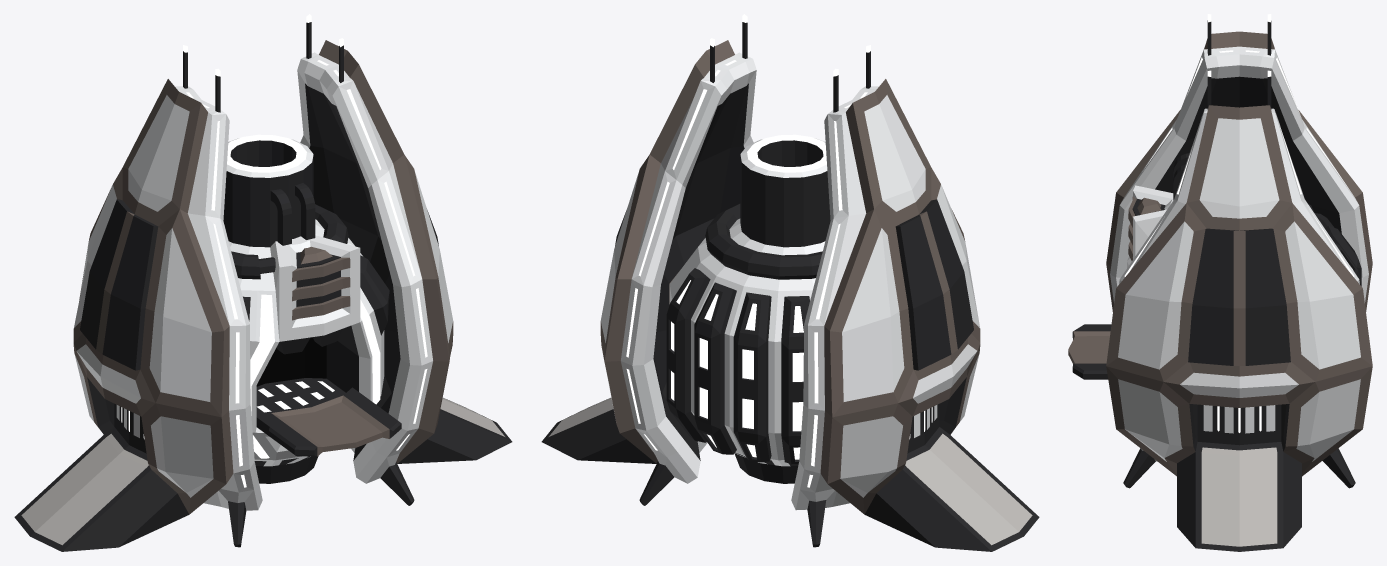
File: garbage-recycler.glb
3 views of the same model, side by side, from view 1: azimuth 30°, elevation 25°; view 2: azimuth 150°, elevation 25°; view 3: azimuth 270°, elevation 25° (orthographic). The views are drawn at different scales.
Parts seen in each view (by area): view 1: GarbageRecycler_Wing, GarbageRecycler_Body, GarbageRecycler_Part, GarbageRecycler_Parts, GarbageRecycler_Doors; view 2: GarbageRecycler_Wing, GarbageRecycler_Body, GarbageRecycler_Parts, GarbageRecycler_Doors; view 3: GarbageRecycler_Wing, GarbageRecycler_Doors, GarbageRecycler_Body, GarbageRecycler_Part, GarbageRecycler_Parts.
Part boxes in pixels (x1,y1,x2,y2): GarbageRecycler_Wing: (14,14,512,551); GarbageRecycler_Body: (223,134,389,466); GarbageRecycler_Part: (256,387,401,456); GarbageRecycler_Parts: (255,183,350,483); GarbageRecycler_Doors: (114,329,384,453); GarbageRecycler_Wing: (541,14,1039,551); GarbageRecycler_Body: (666,134,830,466); GarbageRecycler_Parts: (734,453,798,483); GarbageRecycler_Doors: (907,403,939,453); GarbageRecycler_Wing: (1106,14,1372,551); GarbageRecycler_Doors: (1197,404,1281,445); GarbageRecycler_Body: (1127,185,1361,286); GarbageRecycler_Part: (1068,324,1111,379); GarbageRecycler_Parts: (1128,153,1189,260).
Bounding box in the file's own units: 2039 × 1838 × 1247.
Materials: 1 (1 with a texture image).
